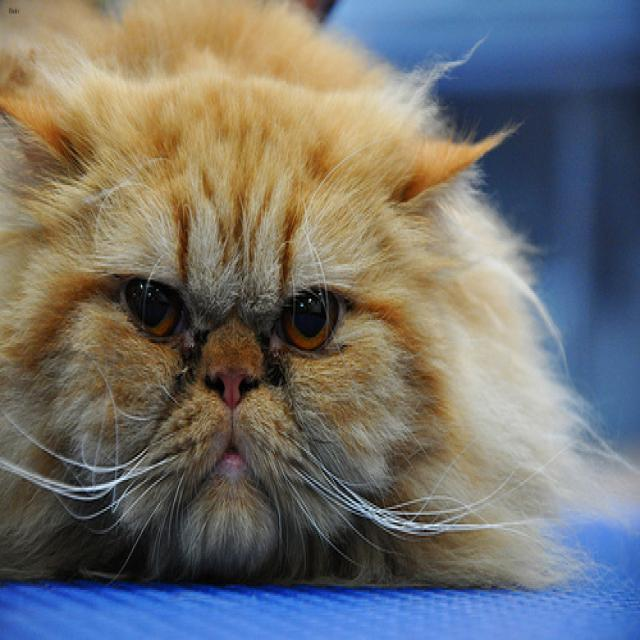Persian: (0, 35, 512, 589)
